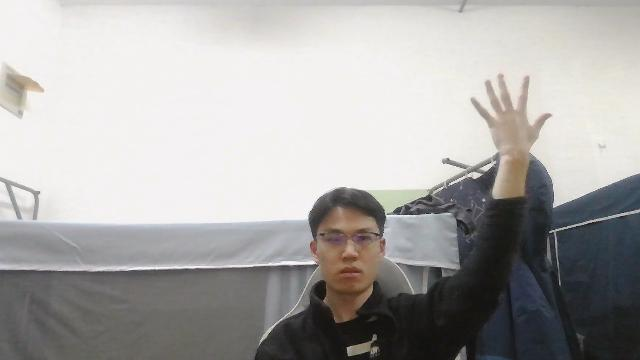five: (470, 72, 552, 157)
